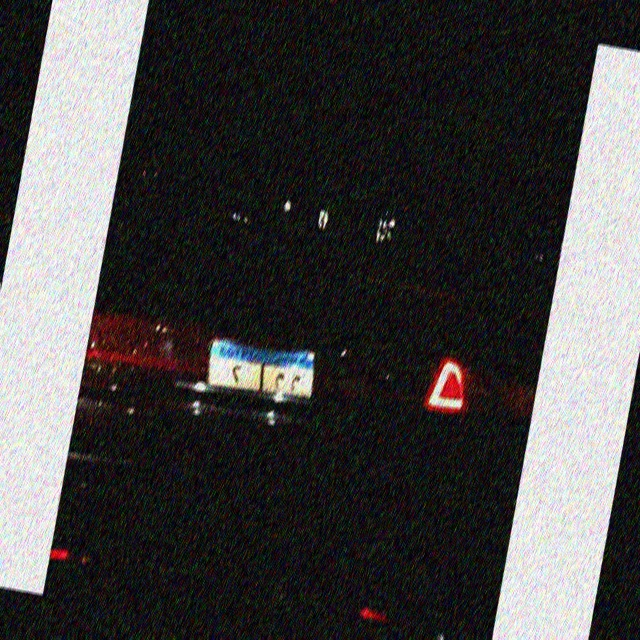License Plate: (200, 332, 321, 407)
